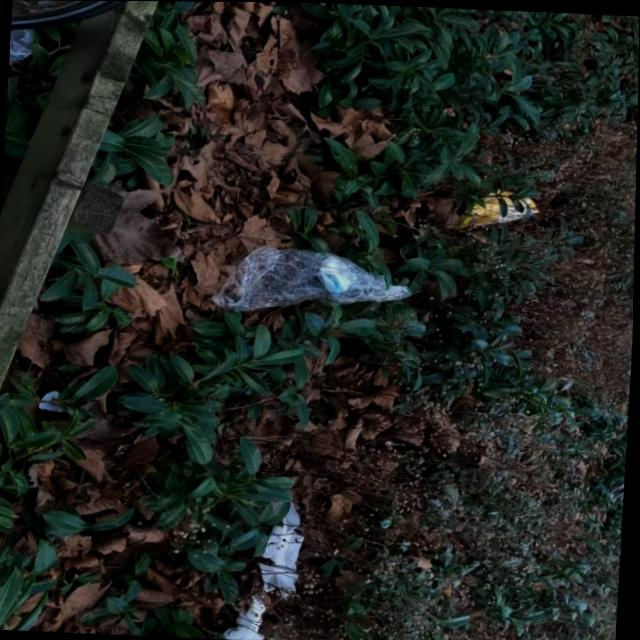Mask: (316, 256, 366, 302)
Paper: (258, 499, 310, 599), (222, 592, 269, 640)
Plastic: (457, 186, 541, 231)
